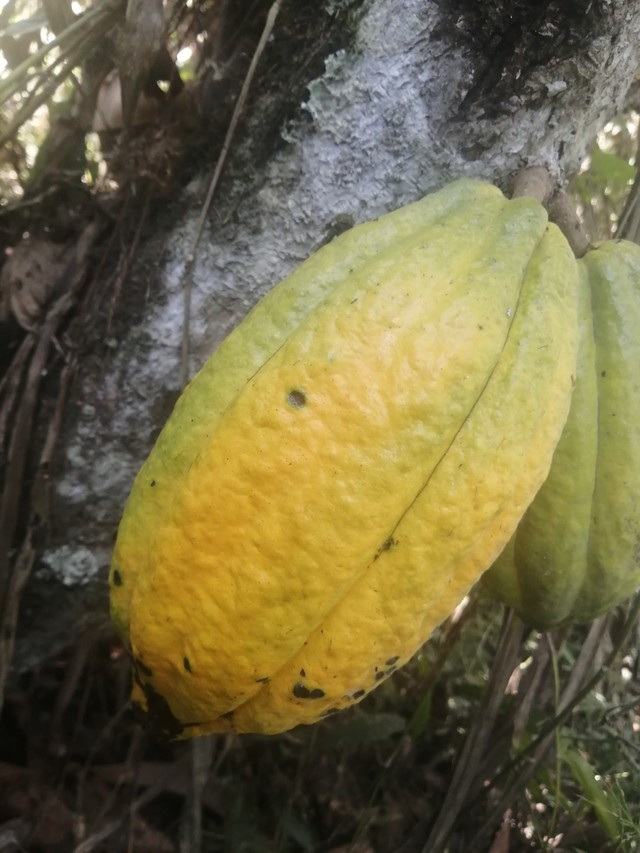Health: (78, 174, 593, 757)
